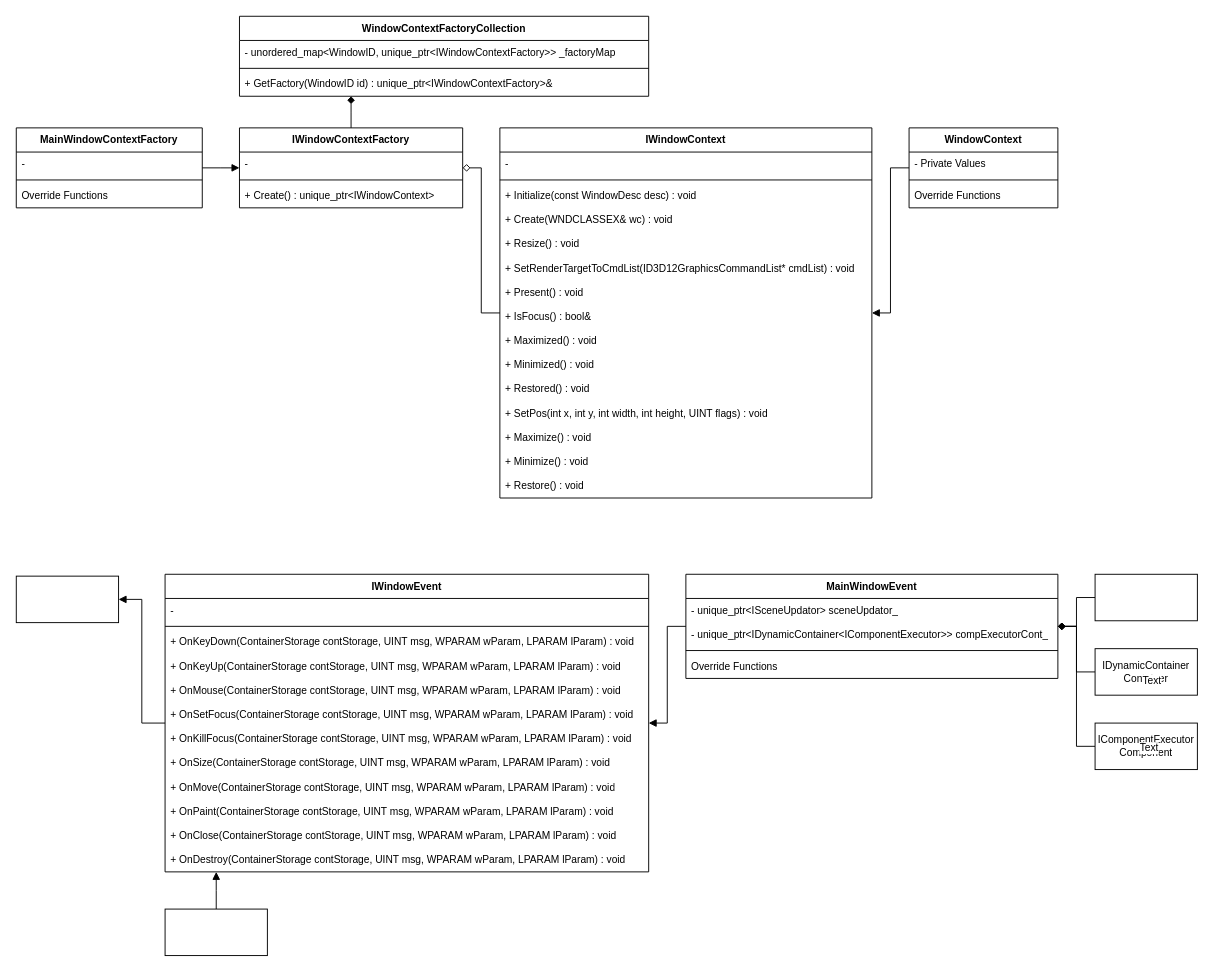
Some shapes in this 1214 by 972 pixel diagram are drawn without their labels. Here are the shapes that lost their labels. From the top down, the centre of each, then its label:
point (67, 599): IEvent Event
point (1145, 597): ISceneUpdator Scene
point (215, 932): ContainerStorage Container
